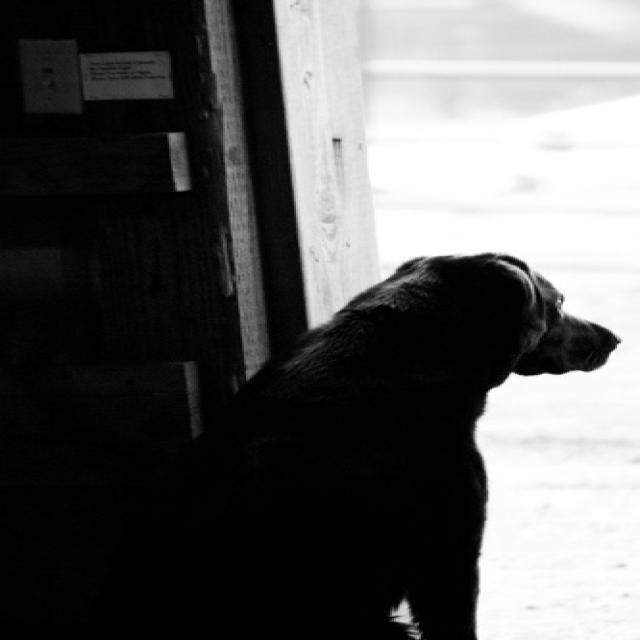dog: (0, 252, 619, 639)
